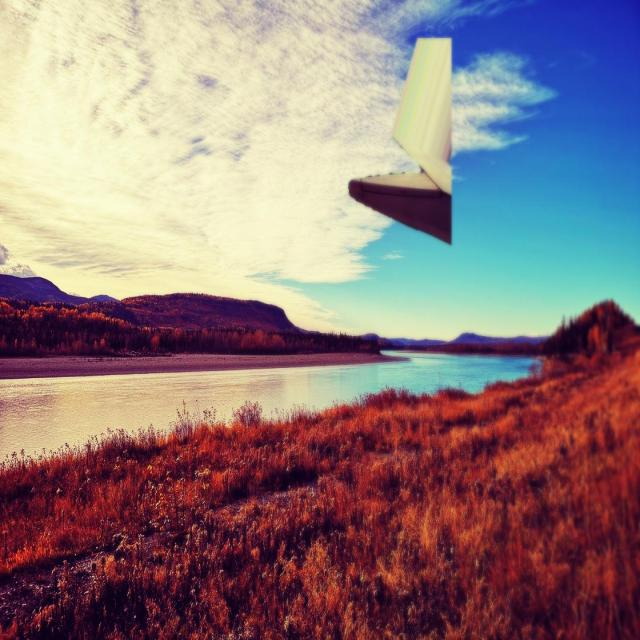airplane: (348, 35, 453, 245)
